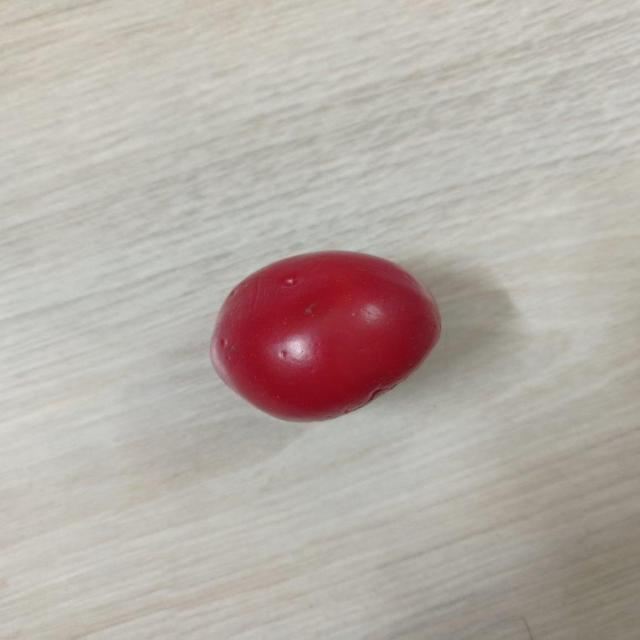Ripe: (198, 240, 455, 427)
